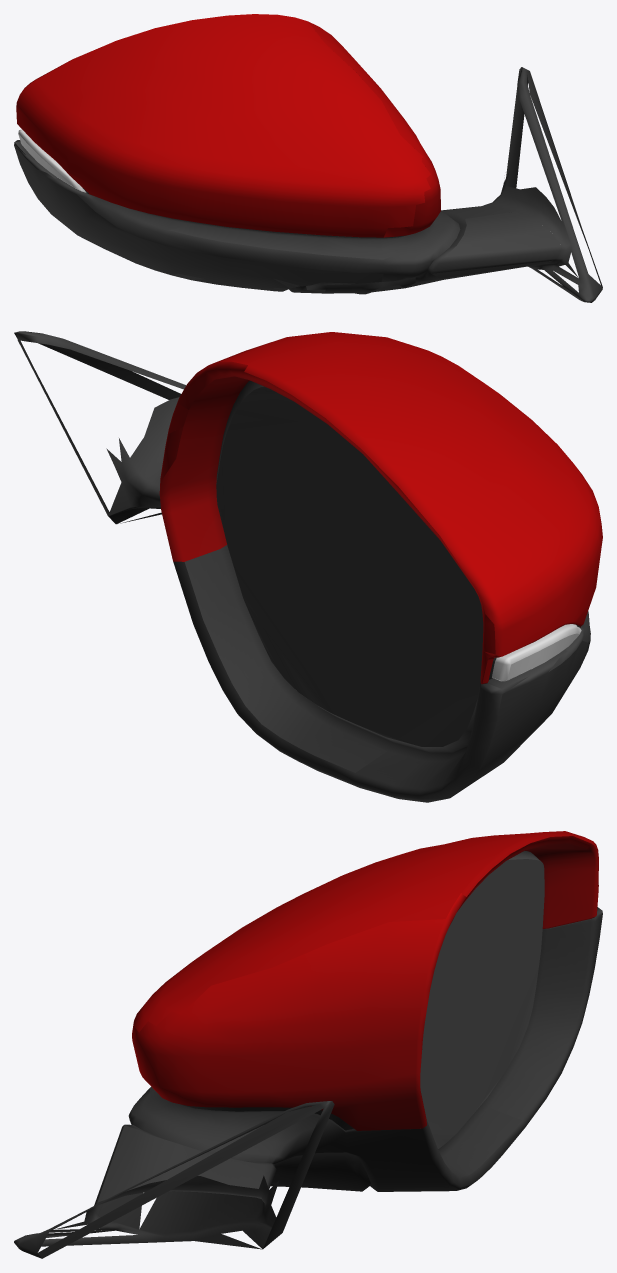
File: sidemirror_r.glb
3 renders of one model, top to bottom at view 1: azimuth 30°, elevation 25°; view 2: azimuth 150°, elevation 25°; view 3: azimuth 270°, elevation 25°, orthographic. The views are drawn at different scales.
Visible parts, largest first — view 1: Paint_Geo_lodA_Ferrari_PurosangueRewardRecycled_2023Paint_M. (×2), Coloured_Geo_lodA_Ferrari_PurosangueRewardRecycled_2023Colo. (×3), Light_Geo_lodA_Ferrari_PurosangueRewardRecycled_2023LightA_M; view 2: Coloured_Geo_lodA_Ferrari_PurosangueRewardRecycled_2023Colo. (×3), Paint_Geo_lodA_Ferrari_PurosangueRewardRecycled_2023Paint_M. (×3), Light_Geo_lodA_Ferrari_PurosangueRewardRecycled_2023LightA_M; view 3: Coloured_Geo_lodA_Ferrari_PurosangueRewardRecycled_2023Colo. (×3), Paint_Geo_lodA_Ferrari_PurosangueRewardRecycled_2023Paint_M. (×2).
Boxes of the visible parts, bbox=[...] form: Paint_Geo_lodA_Ferrari_PurosangueRewardRecycled_2023Paint_M. (×2): bbox=[16, 14, 440, 237]; Coloured_Geo_lodA_Ferrari_PurosangueRewardRecycled_2023Colo. (×3): bbox=[14, 67, 602, 302]; Light_Geo_lodA_Ferrari_PurosangueRewardRecycled_2023LightA_M: bbox=[18, 129, 88, 193]; Coloured_Geo_lodA_Ferrari_PurosangueRewardRecycled_2023Colo. (×3): bbox=[14, 331, 590, 802]; Paint_Geo_lodA_Ferrari_PurosangueRewardRecycled_2023Paint_M. (×3): bbox=[159, 332, 602, 684]; Light_Geo_lodA_Ferrari_PurosangueRewardRecycled_2023LightA_M: bbox=[489, 624, 581, 681]; Coloured_Geo_lodA_Ferrari_PurosangueRewardRecycled_2023Colo. (×3): bbox=[14, 851, 602, 1258]; Paint_Geo_lodA_Ferrari_PurosangueRewardRecycled_2023Paint_M. (×2): bbox=[132, 831, 598, 1130].
Bounding box in the file's own units: 0.0031 × 0.00167 × 0.0029.
Materials: 4 (1 with a texture image).
